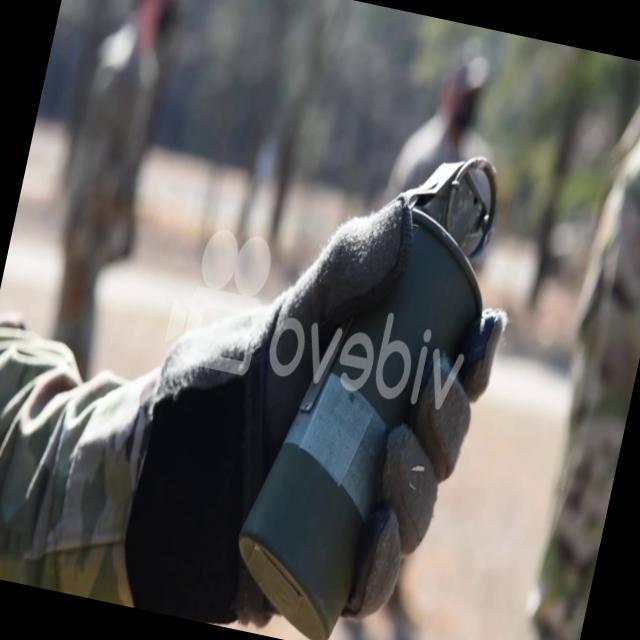grenade: (225, 123, 522, 640)
